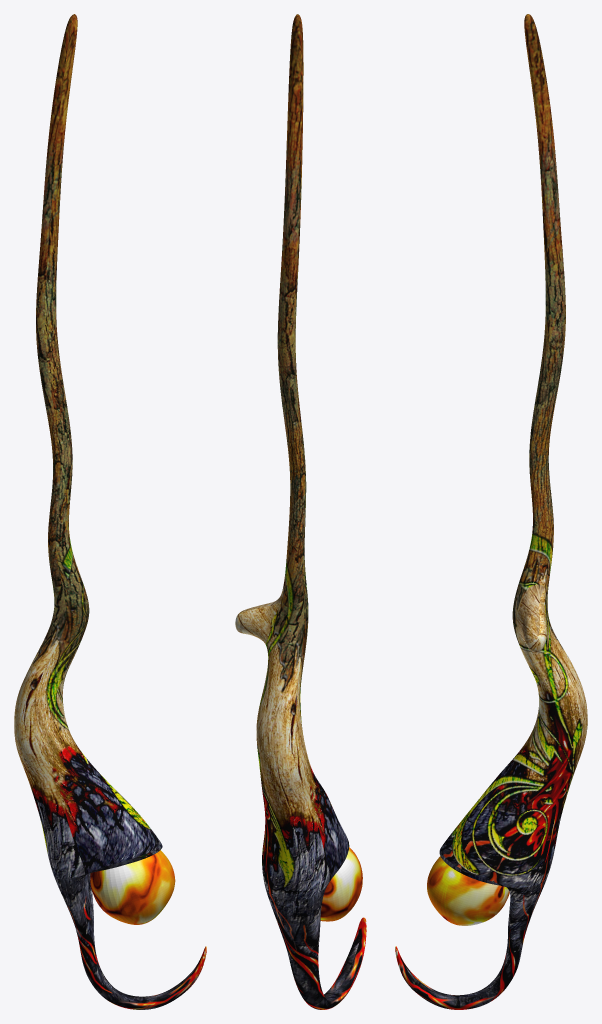
Rendered from 10835_wizard_wand_v1_L3.obj.
3 views of the same model, side by side, from view 1: azimuth 90°, elevation 25°; view 2: azimuth 150°, elevation 25°; view 3: azimuth 270°, elevation 25° (orthographic). The views are drawn at different scales.
Visible parts, largest first — view 1: wand; view 2: wand; view 3: wand.
Boxes of the visible parts, box(x1,y1,x2,y2) form: wand: box(14, 14, 206, 1009); wand: box(235, 14, 366, 1009); wand: box(395, 14, 587, 1009).
Bounding box in the file's own units: 17.29 × 194 × 33.97.
1 material, 1 textured.
